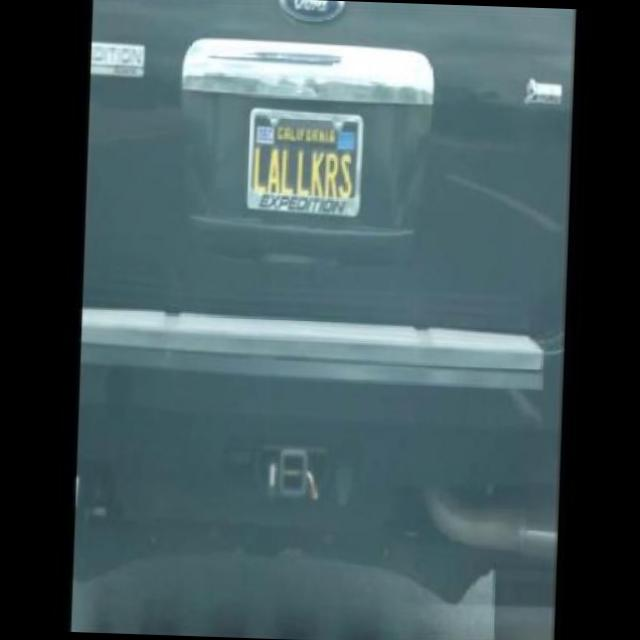LicensePlate: (244, 102, 369, 221)
